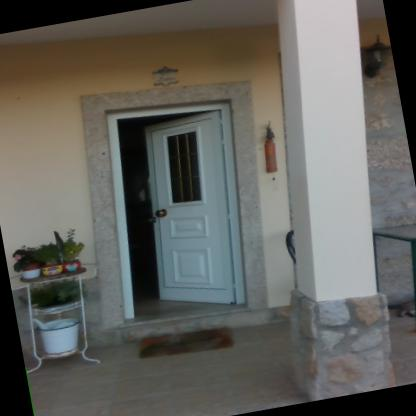semi: (80, 82, 278, 334)
